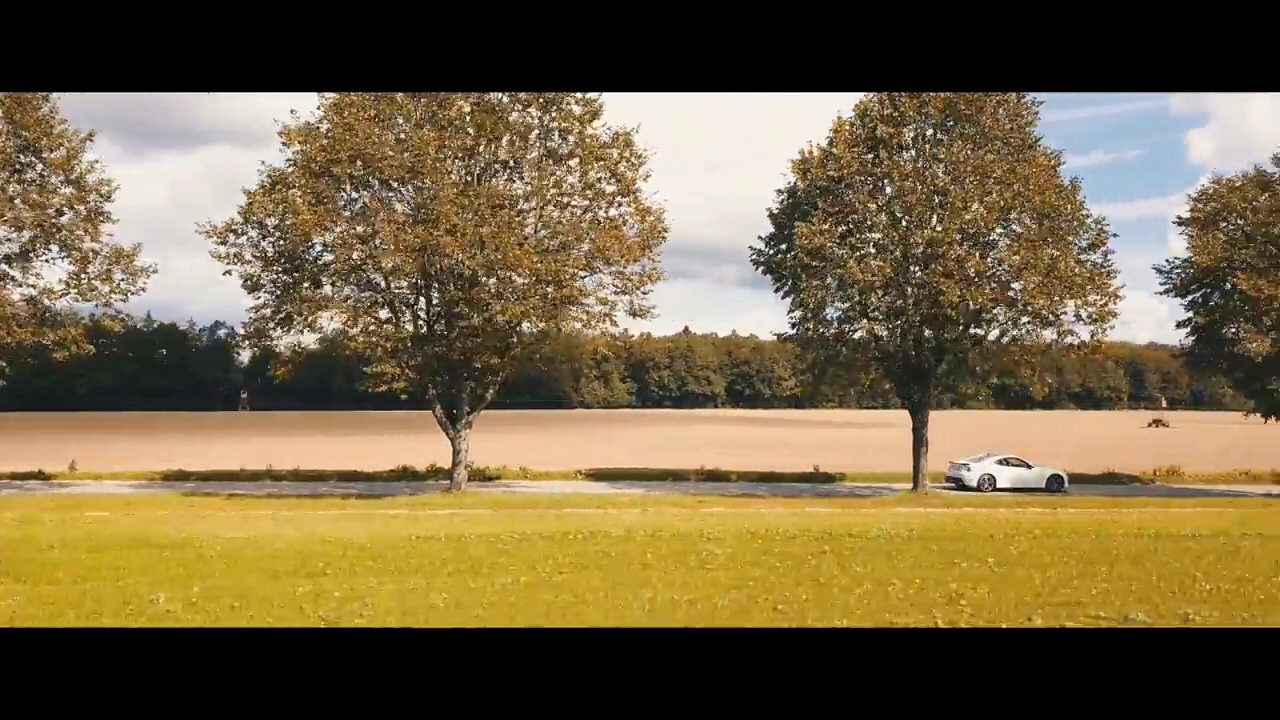araba: (940, 455, 1073, 495)
